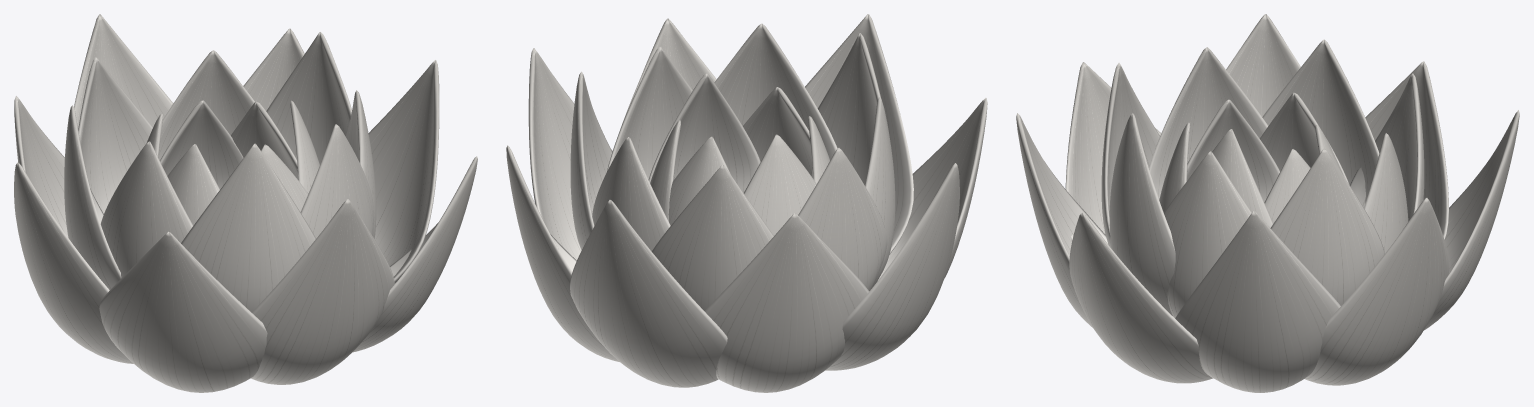
The model's file is lotus.glb.
3 renders of one model, left to right at view 1: azimuth 30°, elevation 25°; view 2: azimuth 150°, elevation 25°; view 3: azimuth 270°, elevation 25°, orthographic. The views are drawn at different scales.
Visible parts, largest first — view 1: petal.007, petal, petal.015, petal.002, petal.006, petal.014, petal.012, petal.010, petal.001, petal.013, petal.008, petal.011 (+9 smaller); view 2: petal.005, petal.004, petal.006, petal.012, petal.002, petal.013, petal.008, petal.003, petal.016, petal.015, petal, petal.007 (+10 smaller); view 3: petal.002, petal.003, petal.001, petal.010, petal.008, petal.009, petal.013, petal.004, petal.014, petal.007, petal, petal.006 (+9 smaller).
Part boxes in pixels (x1,y1,x2,y2): petal.007: (99,231,267,392); petal: (251,199,394,384); petal.015: (181,143,316,312); petal.002: (368,60,439,283); petal.006: (14,162,133,363); petal.014: (100,141,192,277); petal.012: (78,57,152,213); petal.010: (266,32,351,164); petal.001: (353,156,477,352); petal.013: (64,105,121,289); petal.008: (300,124,374,238); petal.011: (158,50,254,160); petal.005: (704,213,869,392); petal.004: (569,200,727,387); petal.006: (825,163,959,370); petal.012: (651,165,773,310); petal.002: (528,48,612,260); petal.013: (798,148,887,290); petal.008: (714,23,837,160); petal.003: (506,145,619,361); petal.016: (648,73,760,192); petal.015: (817,33,881,185); petal: (805,14,913,254); petal.007: (878,98,987,280); petal.002: (1175,211,1340,392); petal.003: (1304,198,1449,385); petal.001: (1069,212,1212,383); petal.010: (1270,148,1384,305); petal.008: (1109,113,1175,315); petal.009: (1164,151,1251,318); petal.013: (1262,39,1379,203); petal.004: (1424,110,1519,330); petal.014: (1149,47,1267,199); petal.007: (1065,62,1161,240); petal: (1016,113,1107,327); petal.006: (1226,14,1300,116).
Size of the model in its own units: 1.09 by 0.6609 by 1.13.
4 materials, 1 textured.
